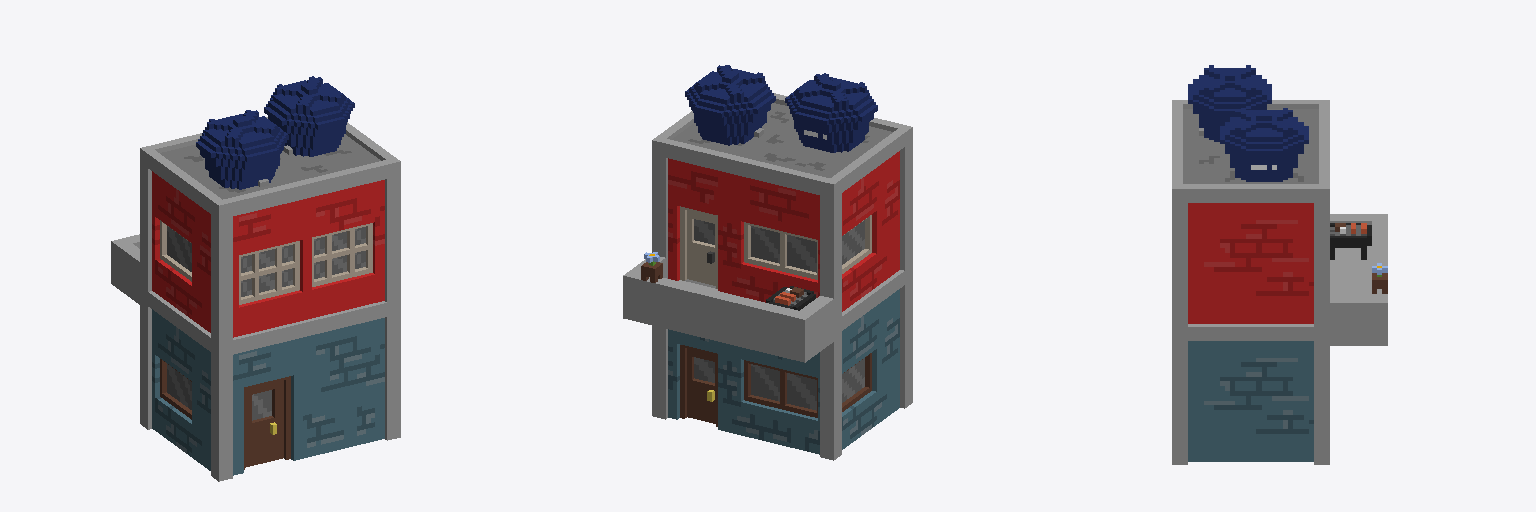
3 views of the same model, side by side, from view 1: azimuth 30°, elevation 25°; view 2: azimuth 150°, elevation 25°; view 3: azimuth 270°, elevation 25° (orthographic).
Visible parts, largest first — view 1: object 1; view 2: object 1; view 3: object 1.
Boxes of the visible parts, <box> form: object 1: <box>111,76,400,481</box>; object 1: <box>623,65,912,460</box>; object 1: <box>1172,65,1387,464</box>.
Size of the model in its own units: 4 by 6.9 by 4.1.
Materials: 1 (1 with a texture image).